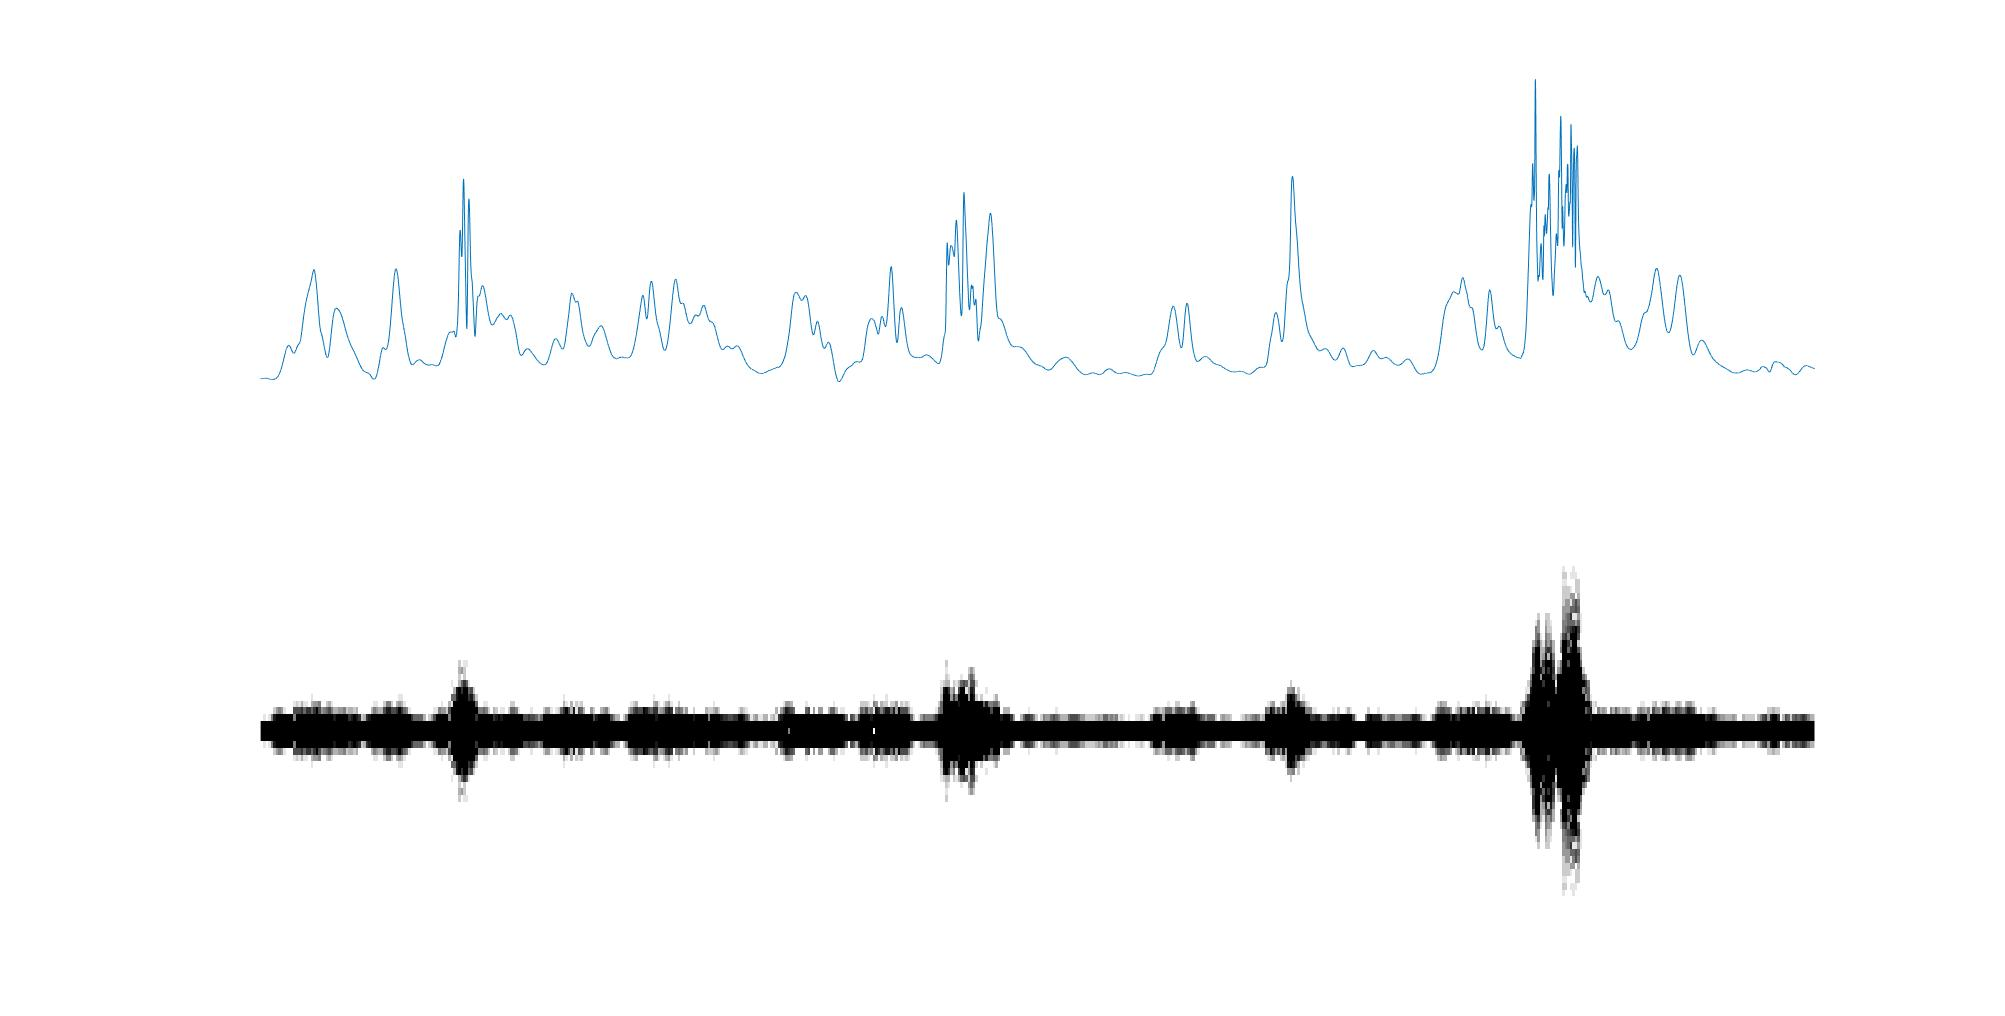spot: (1522, 568, 1592, 892)
